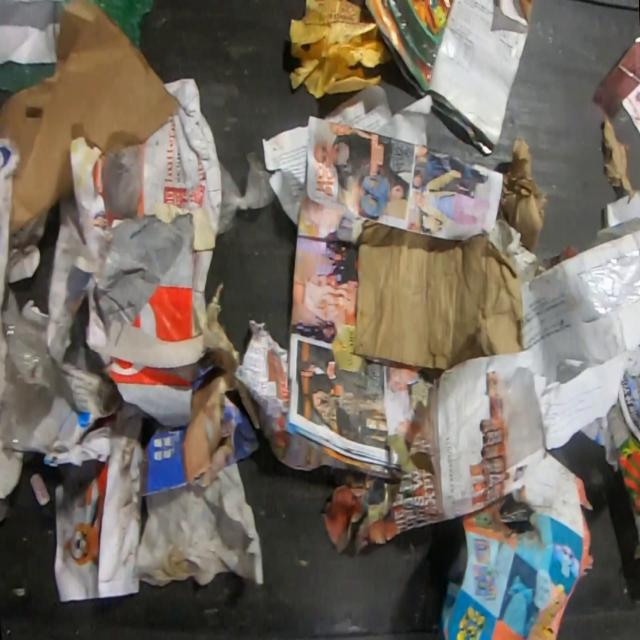cardboard: (0, 0, 183, 234), (350, 217, 523, 371), (139, 279, 261, 497), (135, 78, 221, 252), (93, 215, 194, 342), (94, 356, 199, 426), (496, 134, 550, 254), (602, 113, 637, 204)
rigid_plastic: (101, 145, 140, 220)
soft_plastic: (0, 282, 80, 465), (217, 147, 276, 236), (591, 34, 640, 119), (92, 0, 156, 52), (0, 60, 56, 96)
